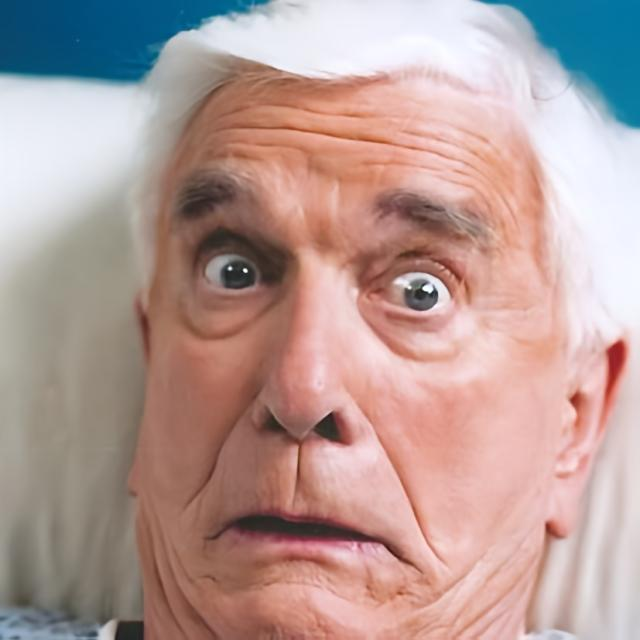fear: (131, 65, 575, 640)
